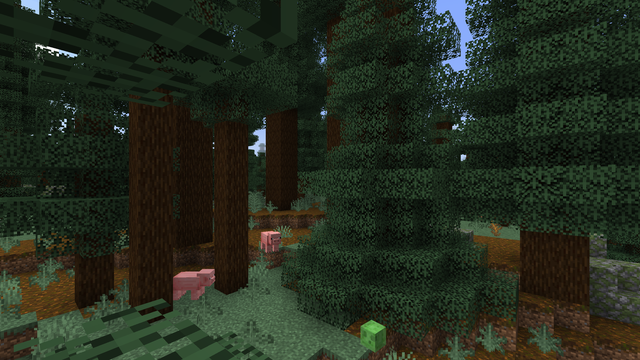cochons: (173, 268, 206, 303), (257, 230, 281, 253)
slimes: (360, 318, 385, 352)
